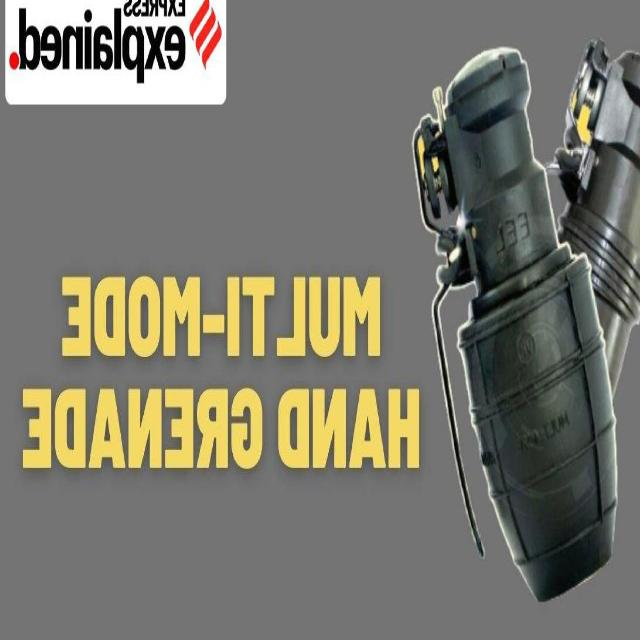grenade: (412, 48, 619, 604), (556, 38, 640, 403)
